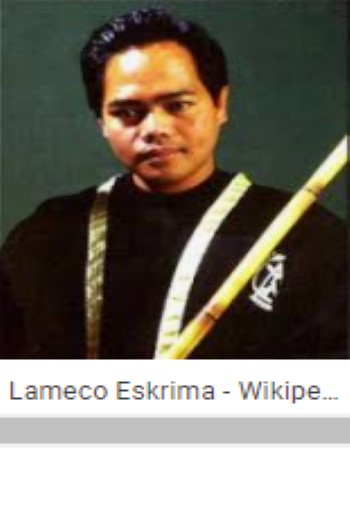baston_e: (174, 142, 333, 356)
baston_v: (149, 343, 196, 372)
